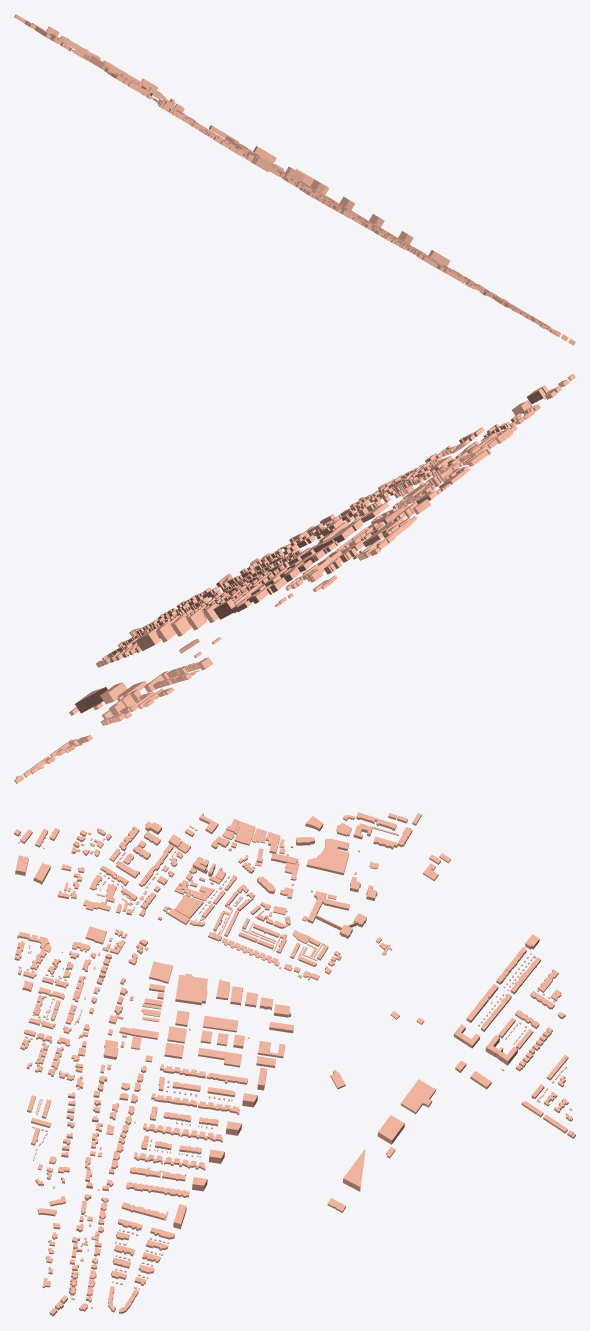
The picture shows the model from 3 angles, top to bottom: view 1: azimuth 30°, elevation 25°; view 2: azimuth 150°, elevation 25°; view 3: azimuth 270°, elevation 25°; orthographic projection. The views are drawn at different scales.
Size of the model in its own units: 1028 by 766 by 1240.
